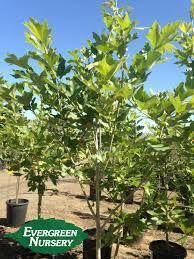tree: (7, 3, 187, 257)
